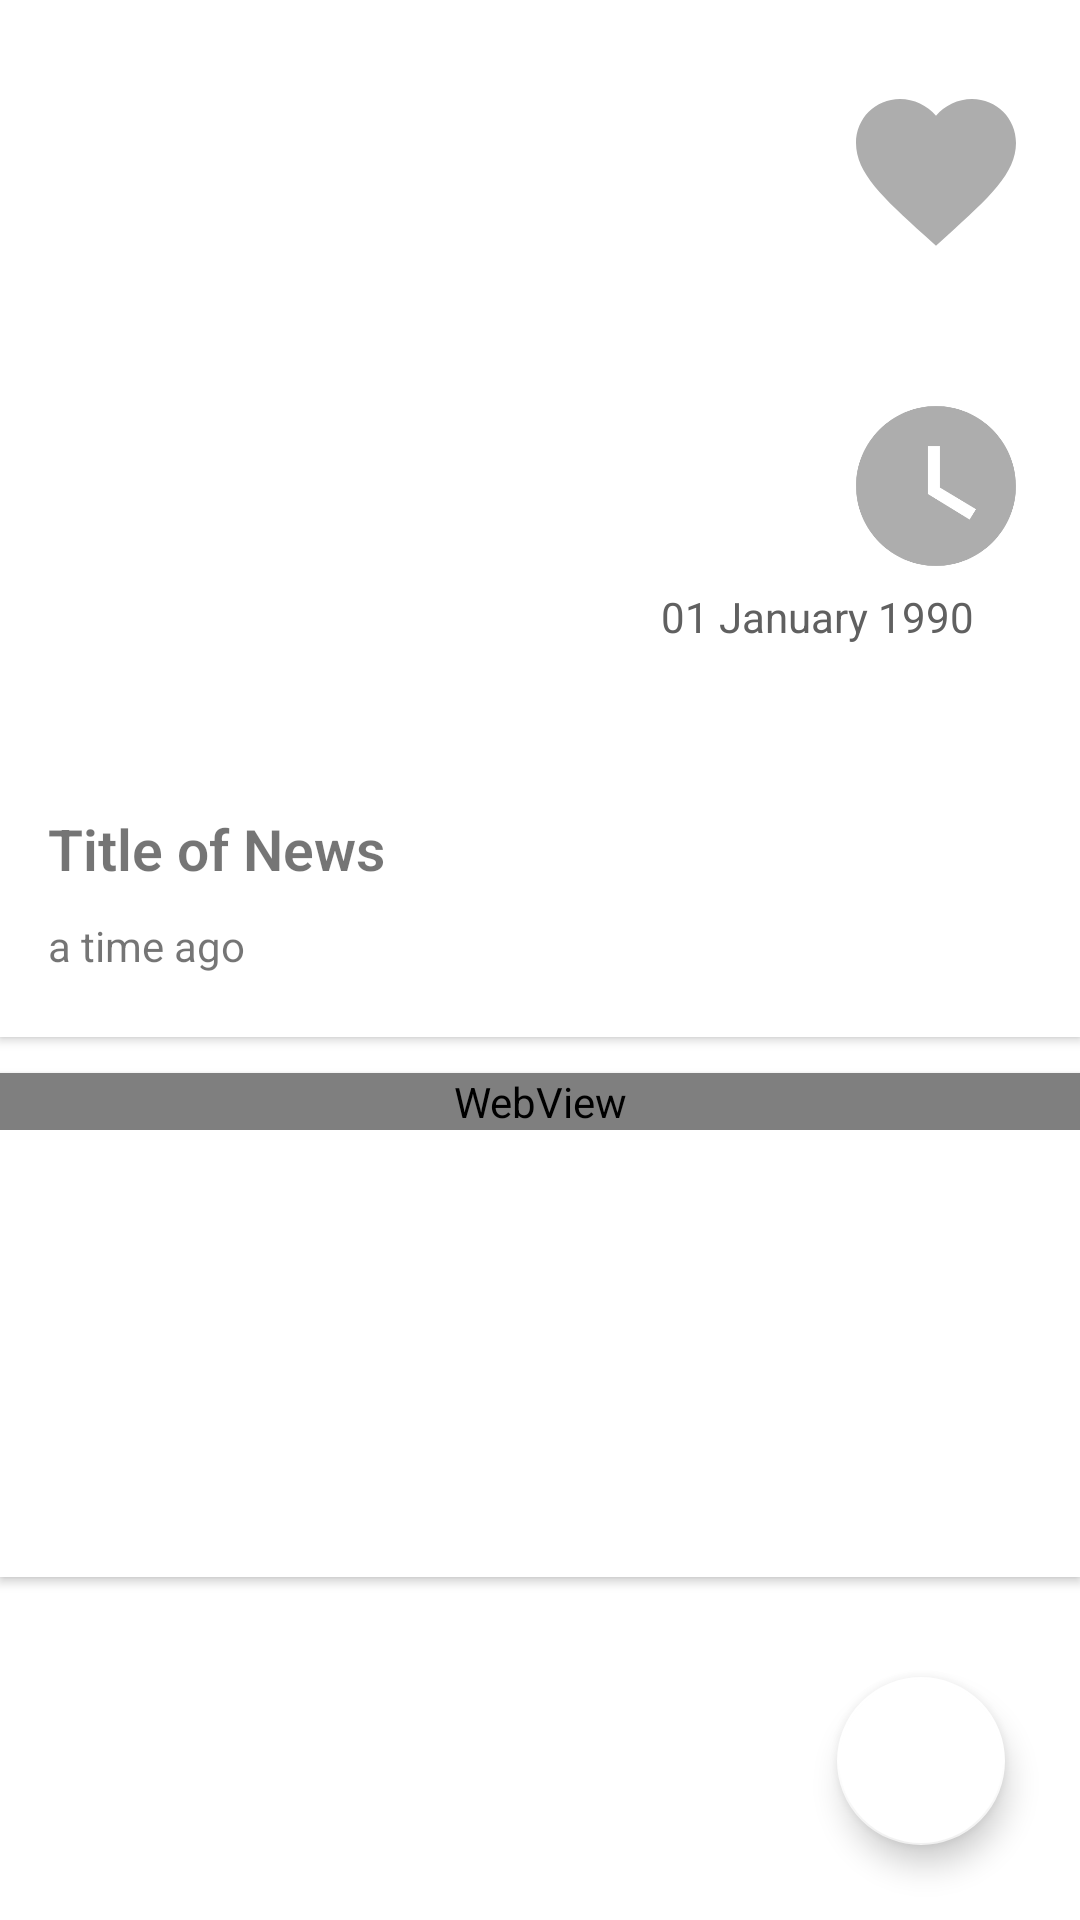

Icons on this 1080w x 1920h Android screen, each with the point to tap as (x,y):
favorite: (936,172)
watch later: (936,486)
